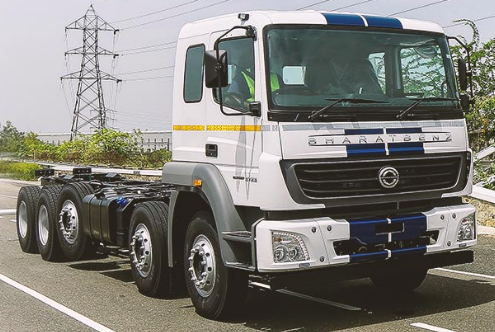truck: (13, 5, 486, 322)
